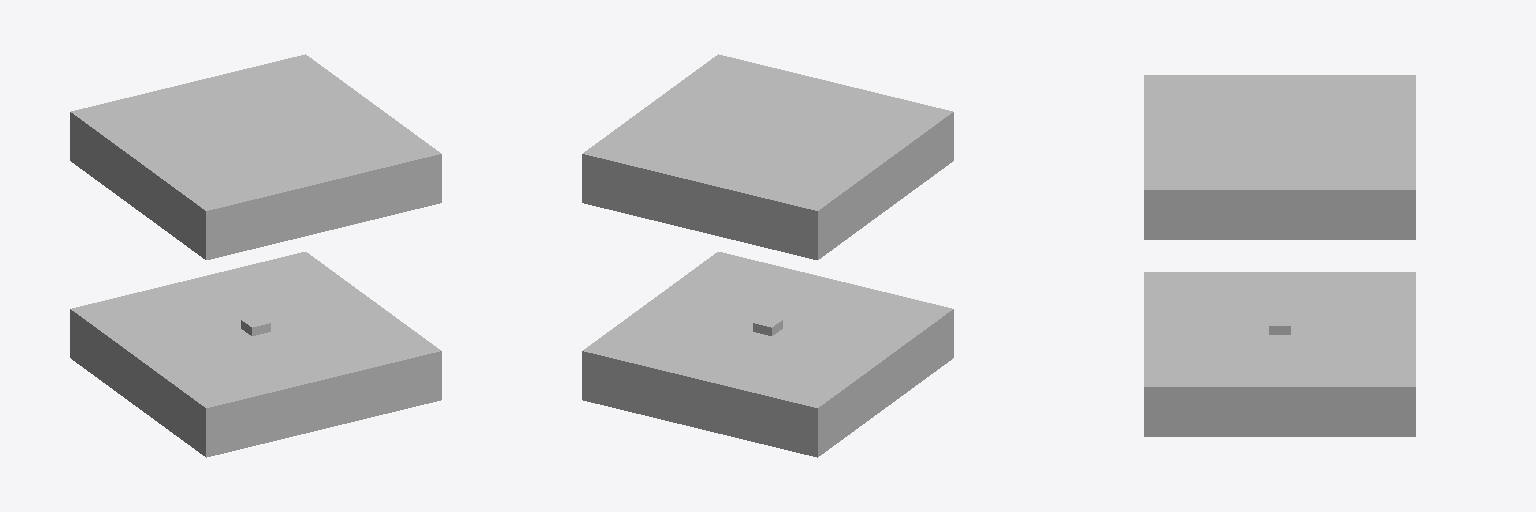
The model's file is BF_Supervoid_Beam_Base.obj.
3 renders of one model, left to right at view 1: azimuth 30°, elevation 25°; view 2: azimuth 150°, elevation 25°; view 3: azimuth 270°, elevation 25°, orthographic.
Visible parts, largest first — view 1: Cube.001_Cube.000; view 2: Cube.001_Cube.000; view 3: Cube.001_Cube.000.
Part boxes in pixels (left/top/right/bottom): Cube.001_Cube.000: left=70, top=54, right=441, bottom=457; Cube.001_Cube.000: left=582, top=54, right=953, bottom=457; Cube.001_Cube.000: left=1144, top=75, right=1415, bottom=436.
Bounding box in the file's own units: 5 × 5 × 5.